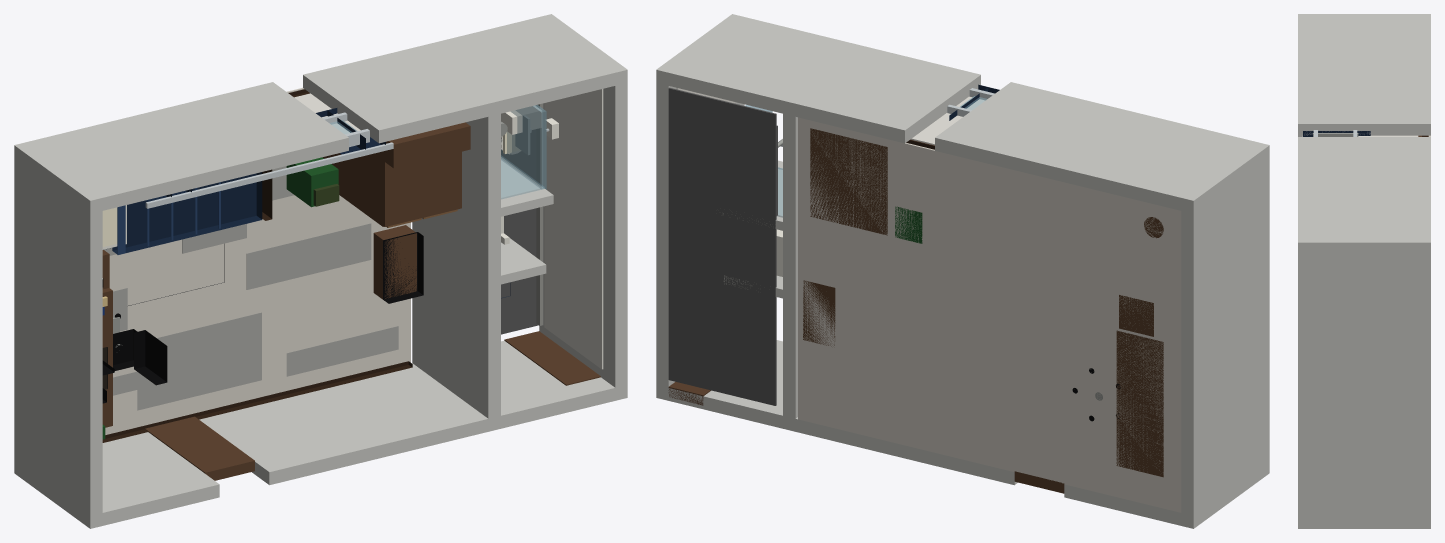
The model's file is manga_room_reference.obj.
The picture shows the model from 3 angles, left to right: view 1: azimuth 30°, elevation 25°; view 2: azimuth 150°, elevation 25°; view 3: azimuth 270°, elevation 25°; orthographic projection. The views are drawn at different scales.
Parts seen in each view (by area): view 1: main_room_floor_marble_tiles, left_outer_wall, top_outer_wall_left, top_outer_wall_right, bathroom_partition, bottom_outer_wall_mid, marble_vein_soft_strip, bath_wall_inner_panel_right, right_outer_wall, bottom_outer_wall_left, large_wardrobe_body, blue_blanket_fold (+19 smaller); view 2: main_room_floor_marble_tiles, bathroom_floor_grey_tiles, left_outer_wall, top_outer_wall_left, top_outer_wall_right, large_wardrobe_body, long_work_desk, bathroom_partition, right_outer_wall, bottom_outer_wall_mid, bottom_outer_wall_right, bottom_outer_wall_left (+4 smaller); view 3: right_outer_wall, top_outer_wall_left, top_outer_wall_right, bottom_outer_wall_right, left_outer_wall, bathroom_partition, right_curtain_fold_1.
Part boxes in pixels (x1,y1,x2,y2): main_room_floor_marble_tiles: [105, 87, 410, 434]; left_outer_wall: [14, 142, 102, 528]; top_outer_wall_left: [14, 82, 348, 213]; top_outer_wall_right: [303, 14, 627, 143]; bathroom_partition: [412, 46, 500, 431]; bottom_outer_wall_mid: [199, 363, 488, 485]; marble_vein_soft_strip: [104, 166, 398, 410]; bath_wall_inner_panel_right: [544, 89, 603, 369]; right_outer_wall: [539, 14, 627, 398]; bottom_outer_wall_left: [14, 432, 219, 528]; large_wardrobe_body: [322, 151, 461, 226]; blue_blanket_fold: [112, 172, 262, 253]; main_room_floor_marble_tiles: [798, 117, 1181, 512]; bathroom_floor_grey_tiles: [668, 87, 776, 405]; left_outer_wall: [1181, 142, 1269, 528]; top_outer_wall_left: [935, 82, 1269, 213]; top_outer_wall_right: [656, 14, 980, 143]; large_wardrobe_body: [810, 128, 934, 235]; long_work_desk: [1116, 330, 1163, 477]; bathroom_partition: [783, 45, 866, 431]; right_outer_wall: [656, 14, 744, 400]; bottom_outer_wall_mid: [795, 417, 1017, 485]; bottom_outer_wall_right: [656, 340, 782, 428]; bottom_outer_wall_left: [1064, 461, 1269, 528]; right_outer_wall: [1298, 237, 1430, 528]; top_outer_wall_left: [1298, 14, 1430, 135]; top_outer_wall_right: [1298, 137, 1430, 253]; bottom_outer_wall_right: [1298, 517, 1430, 528]; left_outer_wall: [1298, 14, 1430, 136]; bathroom_partition: [1298, 183, 1429, 188]; right_curtain_fold_1: [1303, 131, 1370, 136].
Size of the model in its own units: 10.8 by 6.3 by 2.65.
